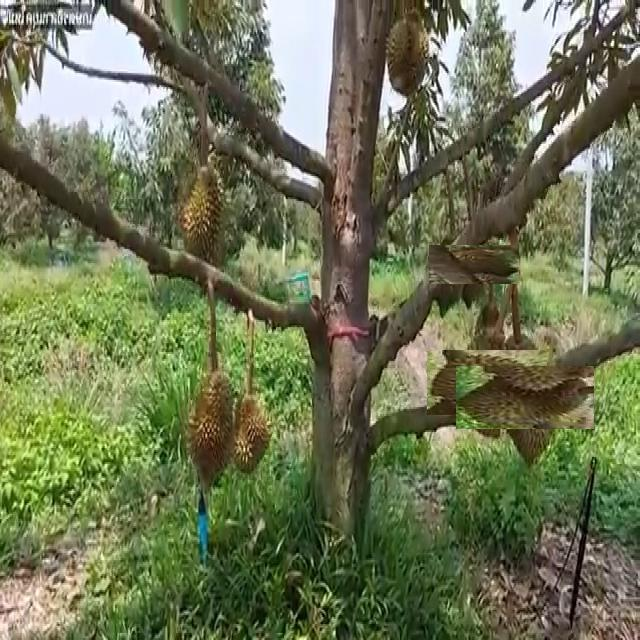durian: (474, 347, 576, 448), (441, 335, 533, 429), (184, 370, 242, 490), (176, 160, 228, 282), (442, 232, 507, 297), (228, 386, 272, 477), (384, 15, 429, 100), (430, 229, 466, 314)
